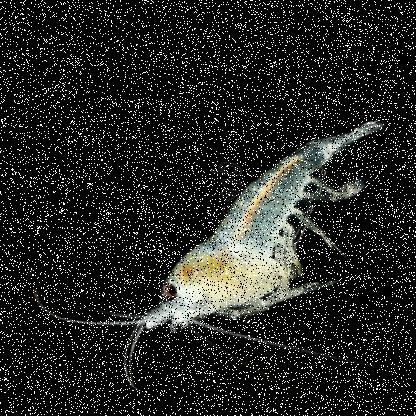shrimp: (123, 73, 396, 357)
